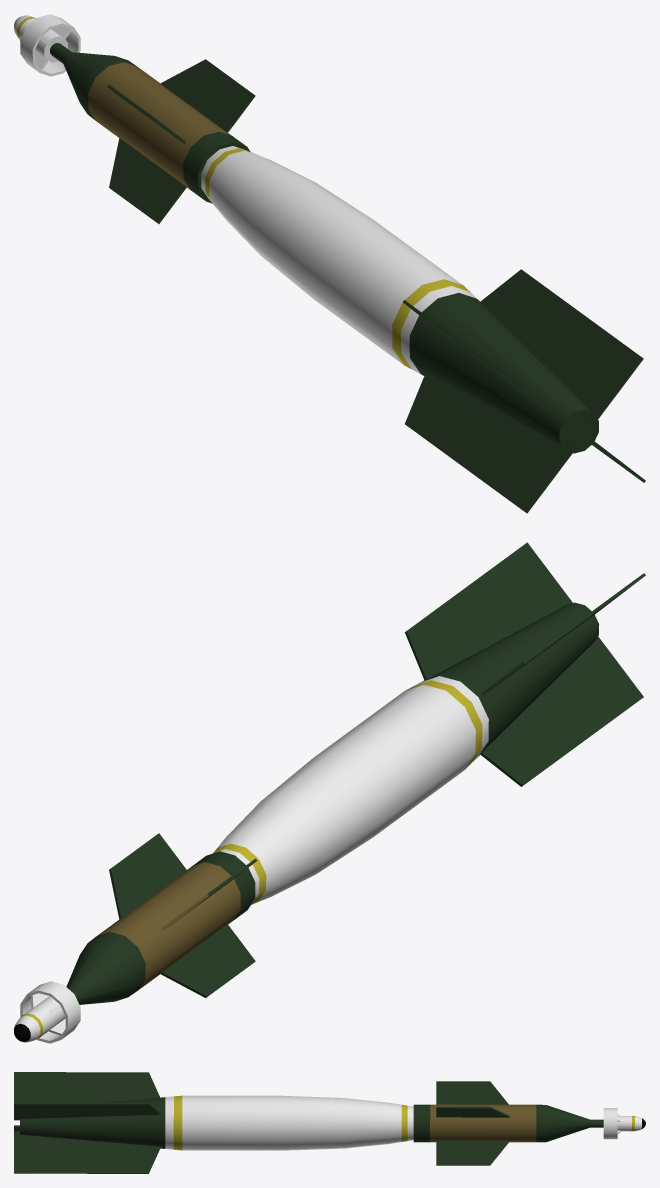
File: GBU16-R.fbx
3 renders of one model, top to bottom at view 1: azimuth 30°, elevation 25°; view 2: azimuth 150°, elevation 25°; view 3: azimuth 270°, elevation 25°, orthographic. The views are drawn at different scales.
Parts seen in each view (by area): view 1: GBU-16R; view 2: GBU-16R; view 3: GBU-16R.
Boxes of the visible parts, bbox=[...] form: GBU-16R: bbox=[14, 14, 645, 513]; GBU-16R: bbox=[14, 542, 645, 1043]; GBU-16R: bbox=[14, 1072, 645, 1173].
Bounding box in the file's own units: 46.31 × 46.38 × 370.
